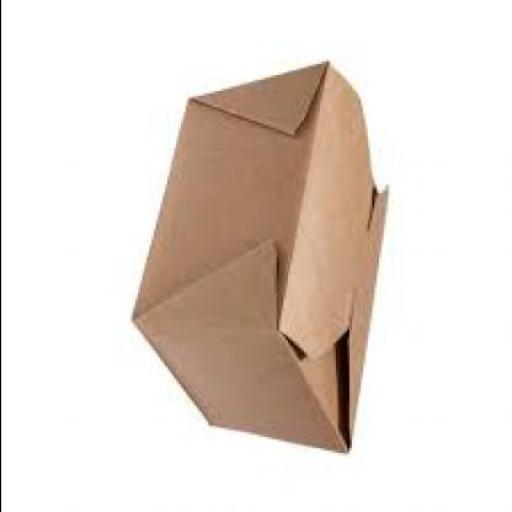cardboard: (132, 64, 389, 458)
